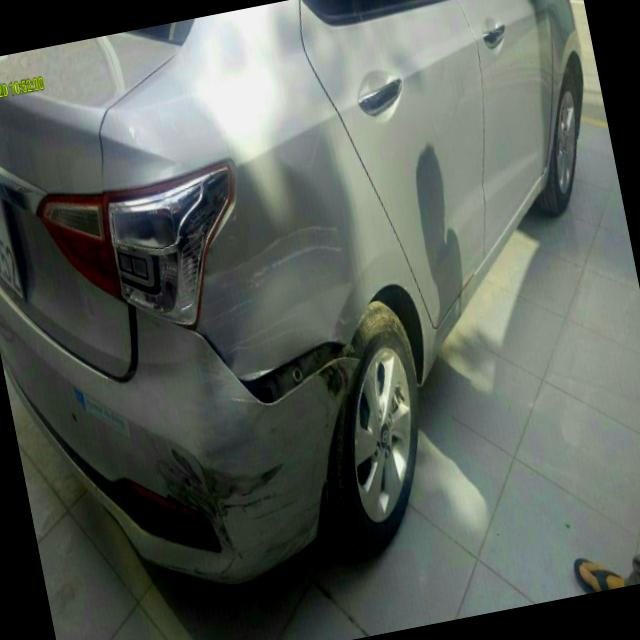Cabossage: (189, 315, 260, 458), (387, 51, 435, 105)
Dechirure: (216, 326, 364, 416)
Phare abime: (94, 201, 241, 343)
Rayure: (143, 414, 312, 587), (177, 207, 369, 349)
